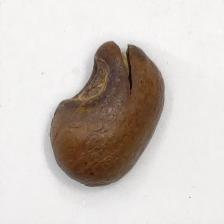NG: (53, 39, 137, 117)
